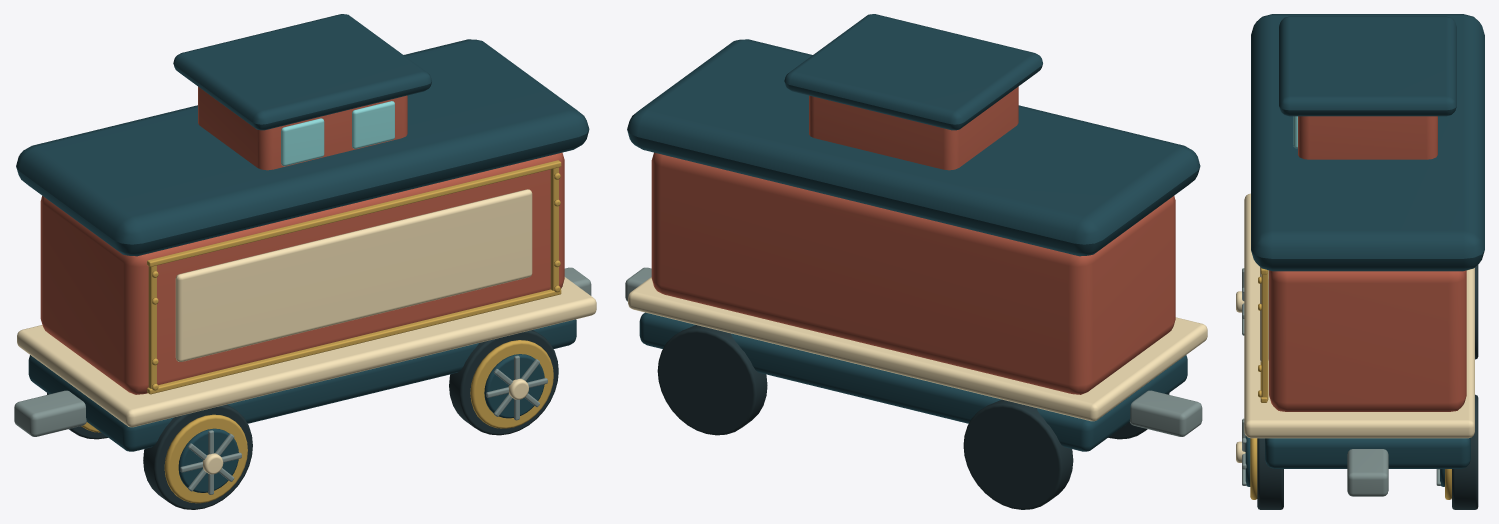
Rendered from caboose.glb.
3 views of the same model, side by side, from view 1: azimuth 30°, elevation 25°; view 2: azimuth 150°, elevation 25°; view 3: azimuth 270°, elevation 25° (orthographic).
Visible parts, largest first — view 1: Curved coach roof.001, Coach body.001, Recessed word panel.001, Cupola roof, Cream running board.002, Cast chassis.002, Wheel 1.08 -0.002, Wheel -1.08 -0.002, Cupola, Coach rim.003, Coach rim.002, Coupler.004 (+4 smaller); view 2: Coach body.001, Curved coach roof.001, Cupola roof, Cream running board.002, Cast chassis.002, Wheel -1.08 0.002, Wheel 1.08 0.002, Cupola, Coupler.004; view 3: Curved coach roof.001, Coach body.001, Cupola roof, Cream running board.002, Cupola, Cast chassis.002, Wheel 1.08 -0.002, Coupler.005, Wheel 1.08 0.002, Corner brass binding.003, Wheel -1.08 0.002, Wheel -1.08 -0.002.
Part boxes in pixels (<box>): Curved coach roof.001: <box>16,39,589,256</box>; Coach body.001: <box>40,152,564,394</box>; Recessed word panel.001: <box>175,189,532,361</box>; Cupola roof: <box>173,14,431,130</box>; Cream running board.002: <box>17,277,596,427</box>; Cast chassis.002: <box>28,319,576,451</box>; Wheel 1.08 -0.002: <box>449,330,558,435</box>; Wheel -1.08 -0.002: <box>143,404,252,509</box>; Cupola: <box>198,86,407,170</box>; Coach rim.003: <box>147,160,561,266</box>; Coach rim.002: <box>147,289,561,394</box>; Coupler.004: <box>14,390,86,436</box>; Coach body.001: <box>651,152,1175,394</box>; Curved coach roof.001: <box>627,39,1200,256</box>; Cupola roof: <box>784,14,1042,130</box>; Cream running board.002: <box>628,277,1207,421</box>; Cast chassis.002: <box>639,312,1187,451</box>; Wheel -1.08 0.002: <box>963,399,1073,509</box>; Wheel 1.08 0.002: <box>657,325,767,435</box>; Cupola: <box>809,86,1018,170</box>; Coupler.004: <box>1130,390,1202,436</box>; Curved coach roof.001: <box>1251,14,1484,271</box>; Coach body.001: <box>1269,270,1466,411</box>; Cupola roof: <box>1279,16,1456,116</box>; Cream running board.002: <box>1244,193,1474,438</box>; Cupola: <box>1298,116,1437,159</box>; Cast chassis.002: <box>1265,437,1470,468</box>; Wheel 1.08 -0.002: <box>1236,418,1283,509</box>; Coupler.005: <box>1347,449,1388,496</box>; Wheel 1.08 0.002: <box>1436,394,1478,509</box>; Corner brass binding.003: <box>1261,270,1268,400</box>; Wheel -1.08 0.002: <box>1475,265,1478,359</box>; Wheel -1.08 -0.002: <box>1236,268,1244,335</box>.
Size of the model in its own units: 3.96 by 2.5 by 1.51.
